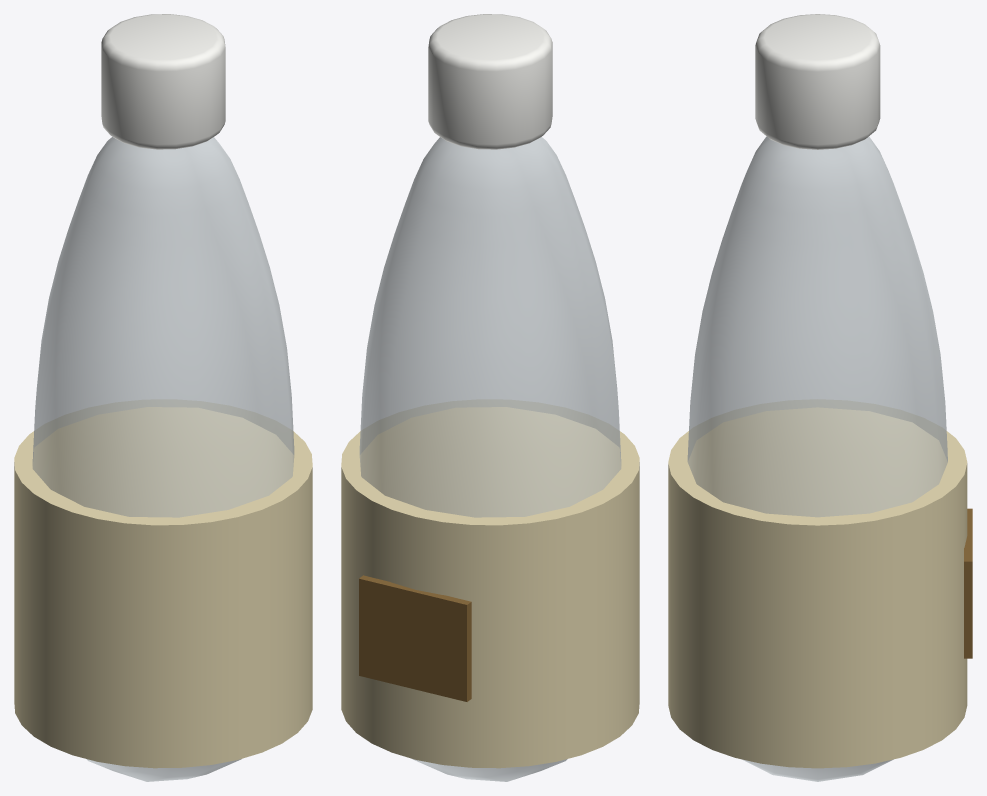
File: almondWater.glb
3 renders of one model, left to right at view 1: azimuth 30°, elevation 25°; view 2: azimuth 150°, elevation 25°; view 3: azimuth 270°, elevation 25°, orthographic.
Parts seen in each view (by area): view 1: label, bottle, cap; view 2: label, bottle, cap, logo; view 3: label, bottle, cap, logo.
Boxes of the visible parts, x1,y1,x2,y2 form: label: (14,400,312,768); bottle: (32,137,294,781); cap: (101,14,225,149); label: (341,400,639,768); bottle: (359,137,621,781); cap: (428,14,552,149); logo: (359,575,471,701); label: (668,399,967,768); bottle: (687,136,947,781); cap: (755,14,880,149); logo: (964,508,972,658).
Size of the model in its own units: 0.067 by 0.1806 by 0.0682.
